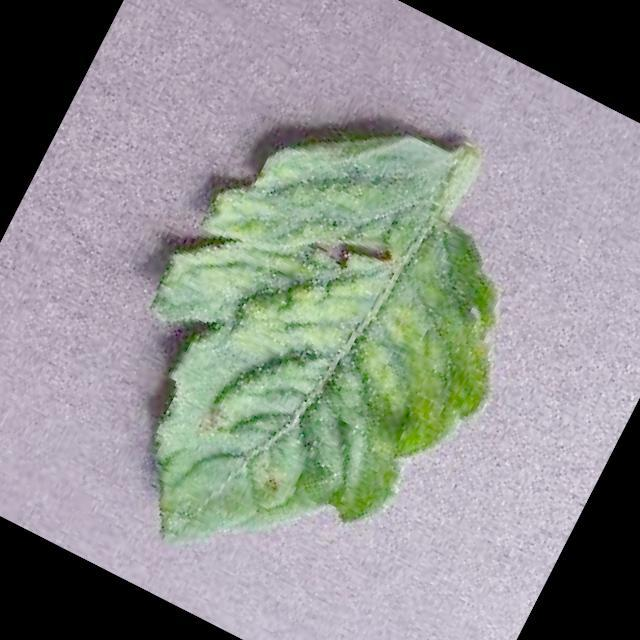Tomato mosaic virus leaf: (52, 58, 586, 640)
